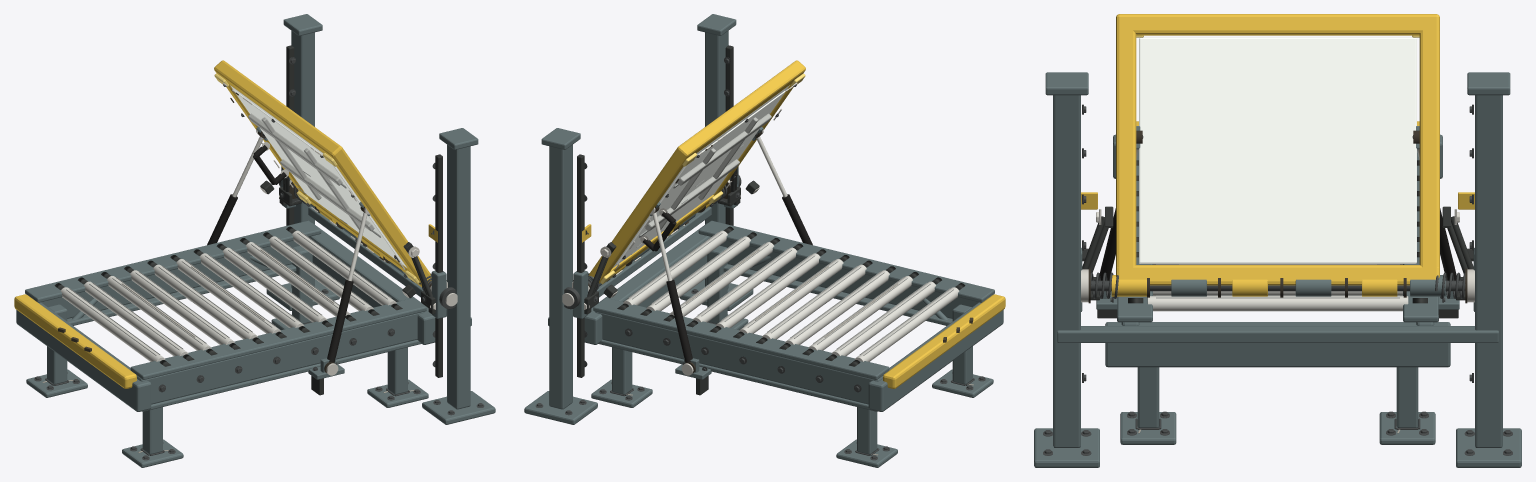
The model's file is small-conveyor-gate.glb.
3 renders of one model, left to right at view 1: azimuth 30°, elevation 25°; view 2: azimuth 150°, elevation 25°; view 3: azimuth 270°, elevation 25°, orthographic. The views are drawn at different scales.
Parts seen in each view (by area): view 1: OPEN_STATE_side_C_channel_web_-1, OPEN_STATE_tall_hinge_support_post_outer_-1, OPEN_STATE_side_C_channel_top_lip_-1, OPEN_STATE_side_C_channel_top_lip_+1, OPEN_STATE_MOVING_clean_light_flush_open_underside_galvanize, OPEN_STATE_front_yellow_safety_nose_bar, OPEN_STATE_front_cross_tie_channel, OPEN_STATE_rear_hinge_cross_tie_channel, OPEN_STATE_MOVING_gate_outer_top_yellow_frame_origin_at_hing, OPEN_STATE_MOVING_gate_left_yellow_side_rail_origin_at_hinge, OPEN_STATE_side_C_channel_web_+1, OPEN_STATE_tall_hinge_support_post_outer_+1 (+30 smaller); view 2: OPEN_STATE_side_C_channel_web_+1, OPEN_STATE_tall_hinge_support_post_outer_+1, OPEN_STATE_side_C_channel_top_lip_+1, OPEN_STATE_side_C_channel_top_lip_-1, OPEN_STATE_MOVING_clean_light_flush_open_underside_galvanize, OPEN_STATE_front_yellow_safety_nose_bar, OPEN_STATE_front_cross_tie_channel, OPEN_STATE_rear_hinge_cross_tie_channel, OPEN_STATE_MOVING_gate_outer_top_yellow_frame_origin_at_hing, OPEN_STATE_side_C_channel_web_-1, OPEN_STATE_tall_hinge_support_post_outer_-1, OPEN_STATE_MOVING_gate_right_yellow_side_rail_origin_at_hing (+30 smaller); view 3: OPEN_STATE_MOVING_recessed_flat_galvanized_panel_origin_at_h, OPEN_STATE_rear_hinge_cross_tie_channel, OPEN_STATE_tall_hinge_support_post_outer_-1, OPEN_STATE_tall_hinge_support_post_outer_+1, OPEN_STATE_low_rear_tie_bar_clear_of_hinge_rotation, OPEN_STATE_MOVING_gate_outer_top_yellow_frame_origin_at_hing, OPEN_STATE_MOVING_gate_left_yellow_side_rail_origin_at_hinge, OPEN_STATE_MOVING_gate_right_yellow_side_rail_origin_at_hing, OPEN_STATE_MOVING_gate_outer_bottom_yellow_frame_origin_at_h, OPEN_STATE_independent_steel_roller_10, OPEN_STATE_rear_post_floor_foot_-1, OPEN_STATE_rear_post_floor_foot_+1 (+17 smaller).
Part boxes in pixels (x1,y1,x2,y2): OPEN_STATE_side_C_channel_web_-1: (136, 311, 424, 404); OPEN_STATE_tall_hinge_support_post_outer_-1: (447, 145, 470, 409); OPEN_STATE_side_C_channel_top_lip_-1: (130, 298, 426, 379); OPEN_STATE_side_C_channel_top_lip_+1: (25, 220, 321, 302); OPEN_STATE_MOVING_clean_light_flush_open_underside_galvanize: (234, 90, 402, 264); OPEN_STATE_front_yellow_safety_nose_bar: (14, 294, 136, 388); OPEN_STATE_front_cross_tie_channel: (16, 302, 151, 411); OPEN_STATE_rear_hinge_cross_tie_channel: (309, 223, 435, 344); OPEN_STATE_MOVING_gate_outer_top_yellow_frame_origin_at_hing: (214, 60, 346, 162); OPEN_STATE_MOVING_gate_left_yellow_side_rail_origin_at_hinge: (327, 146, 429, 278); OPEN_STATE_side_C_channel_web_+1: (41, 240, 299, 318); OPEN_STATE_tall_hinge_support_post_outer_+1: (291, 31, 314, 288); OPEN_STATE_side_C_channel_web_+1: (595, 311, 883, 404); OPEN_STATE_tall_hinge_support_post_outer_+1: (549, 145, 572, 409); OPEN_STATE_side_C_channel_top_lip_+1: (593, 298, 889, 379); OPEN_STATE_side_C_channel_top_lip_-1: (698, 220, 994, 302); OPEN_STATE_MOVING_clean_light_flush_open_underside_galvanize: (617, 90, 785, 264); OPEN_STATE_front_yellow_safety_nose_bar: (883, 294, 1005, 388); OPEN_STATE_front_cross_tie_channel: (868, 302, 1003, 411); OPEN_STATE_rear_hinge_cross_tie_channel: (584, 223, 710, 344); OPEN_STATE_MOVING_gate_outer_top_yellow_frame_origin_at_hing: (673, 60, 805, 162); OPEN_STATE_side_C_channel_web_-1: (720, 240, 978, 318); OPEN_STATE_tall_hinge_support_post_outer_-1: (705, 31, 728, 288); OPEN_STATE_MOVING_gate_right_yellow_side_rail_origin_at_hing: (590, 146, 692, 283); OPEN_STATE_MOVING_recessed_flat_galvanized_panel_origin_at_h: (1139, 37, 1416, 263); OPEN_STATE_rear_hinge_cross_tie_channel: (1105, 322, 1450, 367); OPEN_STATE_tall_hinge_support_post_outer_-1: (1053, 95, 1080, 447); OPEN_STATE_tall_hinge_support_post_outer_+1: (1475, 95, 1502, 447); OPEN_STATE_low_rear_tie_bar_clear_of_hinge_rotation: (1057, 326, 1498, 342); OPEN_STATE_MOVING_gate_outer_top_yellow_frame_origin_at_hing: (1116, 14, 1439, 35); OPEN_STATE_MOVING_gate_left_yellow_side_rail_origin_at_hinge: (1116, 14, 1136, 279); OPEN_STATE_MOVING_gate_right_yellow_side_rail_origin_at_hing: (1419, 14, 1439, 279); OPEN_STATE_MOVING_gate_outer_bottom_yellow_frame_origin_at_h: (1116, 265, 1439, 285); OPEN_STATE_independent_steel_roller_10: (1147, 296, 1408, 311); OPEN_STATE_rear_post_floor_foot_-1: (1034, 428, 1099, 467); OPEN_STATE_rear_post_floor_foot_+1: (1456, 428, 1521, 467).
Size of the model in its own units: 4.19 by 3.23 by 3.84.
